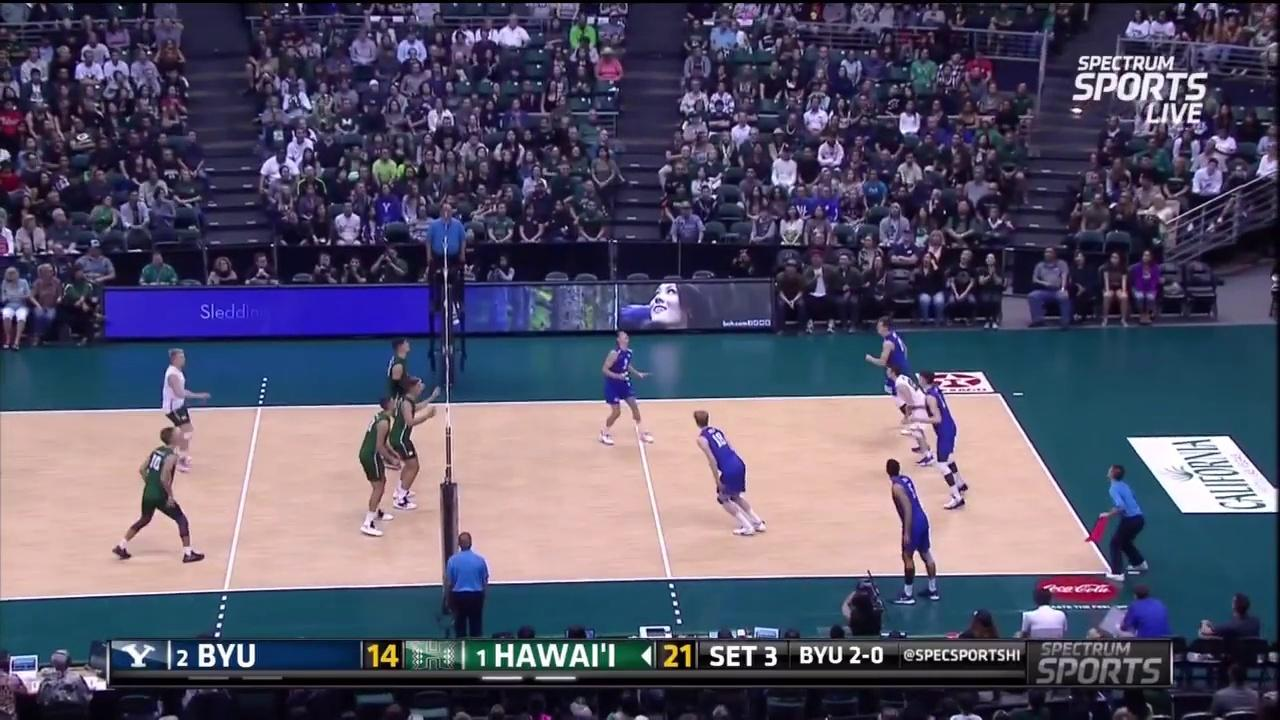player: (112, 430, 200, 559), (690, 409, 762, 533), (884, 459, 941, 602), (868, 316, 929, 437), (918, 370, 971, 509), (160, 340, 209, 472), (883, 361, 941, 471), (354, 394, 396, 541), (391, 374, 436, 511), (600, 333, 652, 443), (384, 334, 416, 473)
refree: (1095, 468, 1145, 574), (422, 200, 469, 306), (446, 534, 488, 639)
